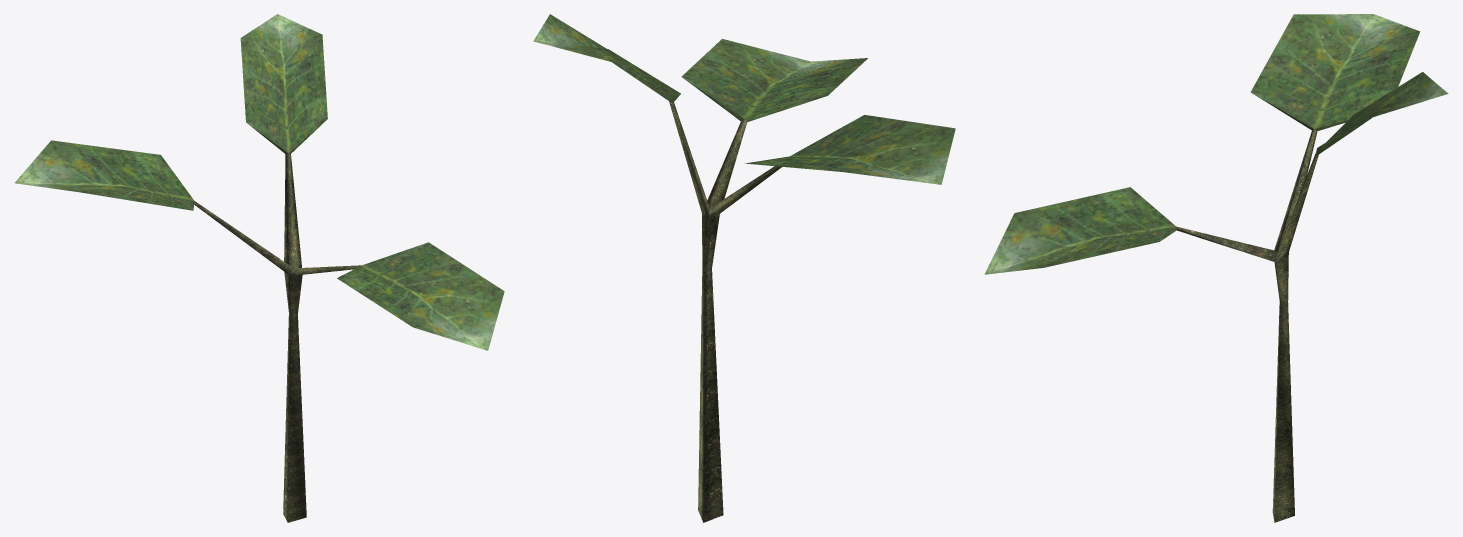
Rendered from leaf_smallflora_l1.fbx.
The picture shows the model from 3 angles, left to right: view 1: azimuth 30°, elevation 25°; view 2: azimuth 150°, elevation 25°; view 3: azimuth 270°, elevation 25°; orthographic projection. The views are drawn at different scales.
Visible parts, largest first — view 1: mesh_node; view 2: mesh_node; view 3: mesh_node.
Boxes of the visible parts, x1,y1,x2,y2 form: mesh_node: (14,14,504,522); mesh_node: (533,14,955,522); mesh_node: (984,14,1448,522).
Size of the model in its own units: 0.9174 by 1.13 by 1.04.
Materials: 2 (2 with a texture image).
